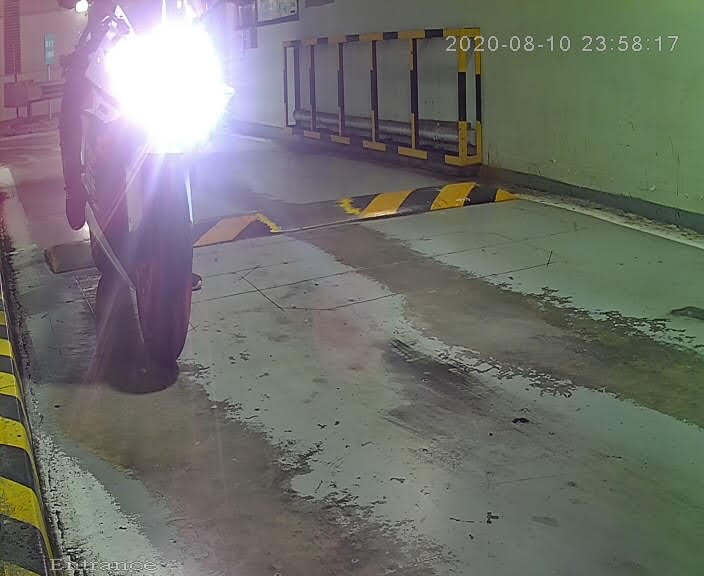motorcycle: (42, 1, 246, 397)
